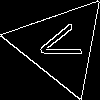V: (35, 19, 92, 67)
